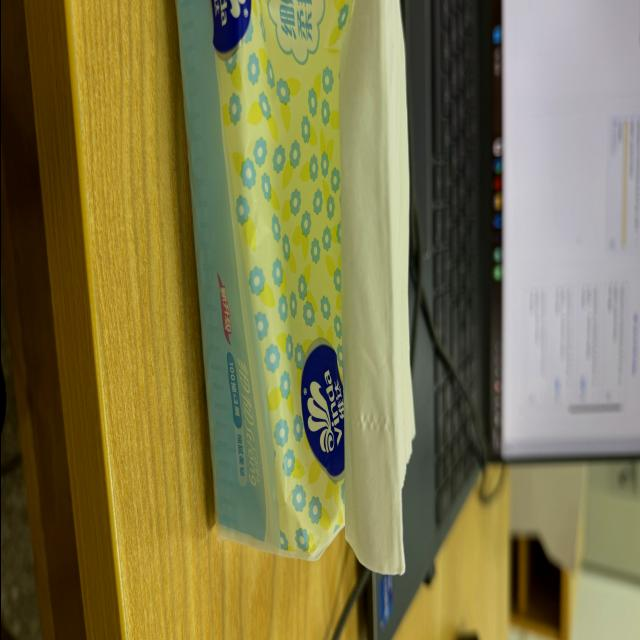tissue: (177, 0, 350, 559), (339, 0, 413, 574)
